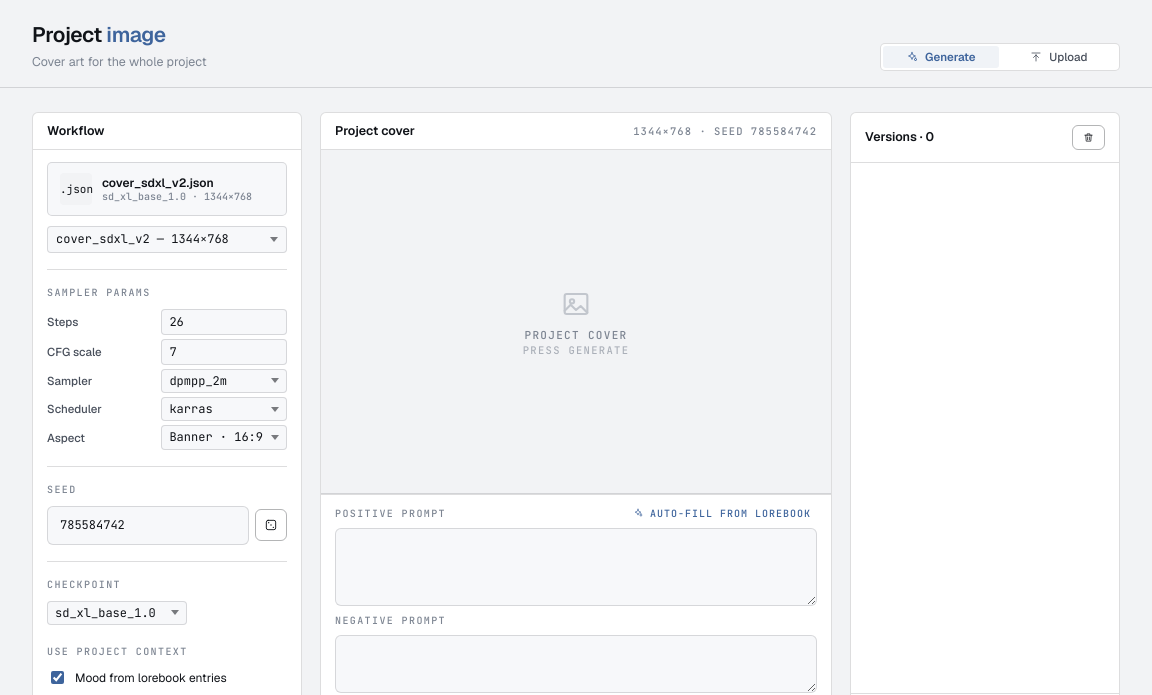
ProjectImageScreen › lists all workflows
Click the dropdown named "Workflow" at (167, 240), box [47,226,287,253]
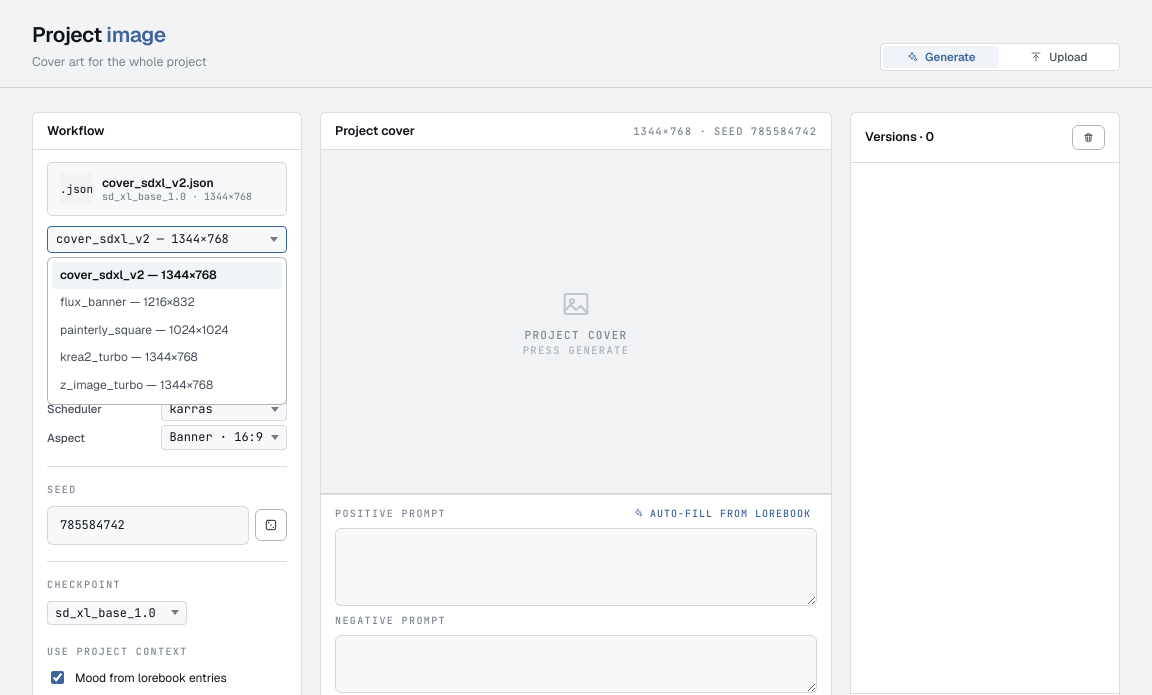
Expected: the option "cover_sdxl_v2 — 1344×768" is shown, [52,262,282,289]
Expected: the option "flux_banner — 1216×832" is shown, [60,294,195,310]
Expected: the option "painterly_square — 1024×1024" is shown, [60,322,228,338]
